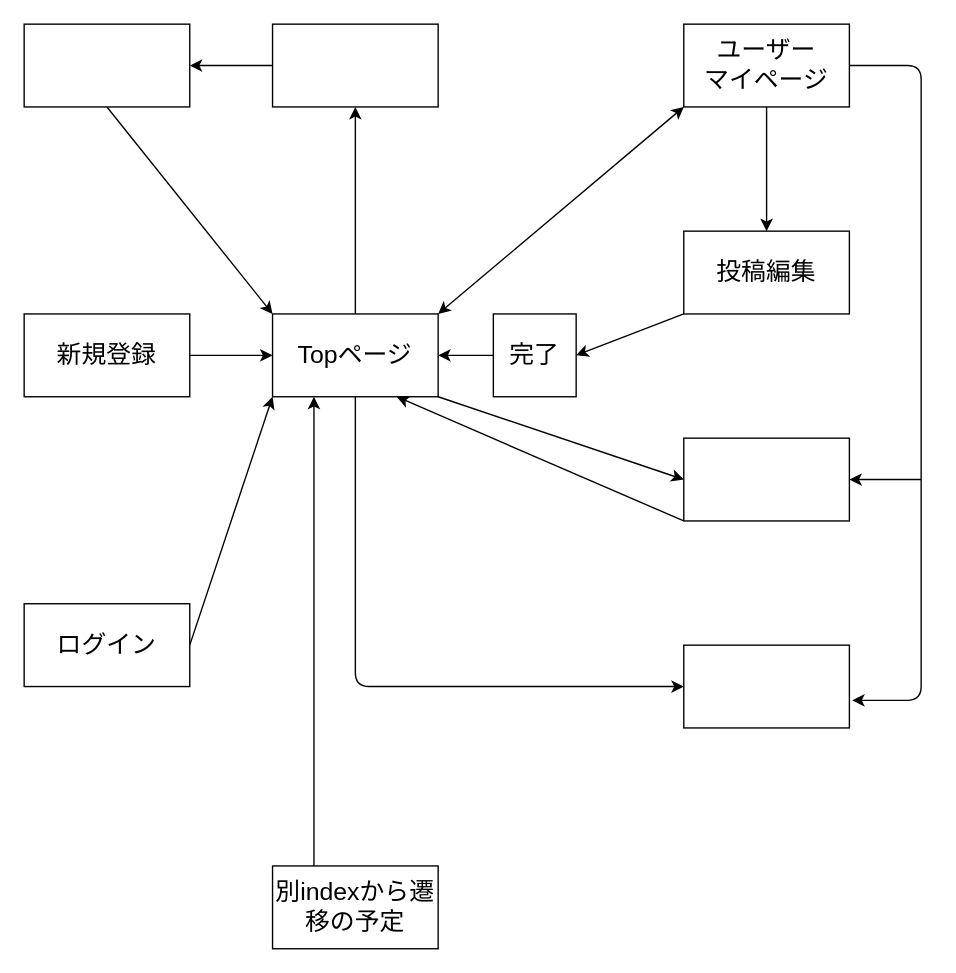
Some shapes in this 956 by 973 pixel diagram are drawn without their labels. Each missing label, with the centre of its shape:
"レビュー： 新規投稿" goes at (354,65).
"削除" goes at (765,479).
"投稿完了" goes at (106,65).
"投稿詳細" goes at (765,686).
